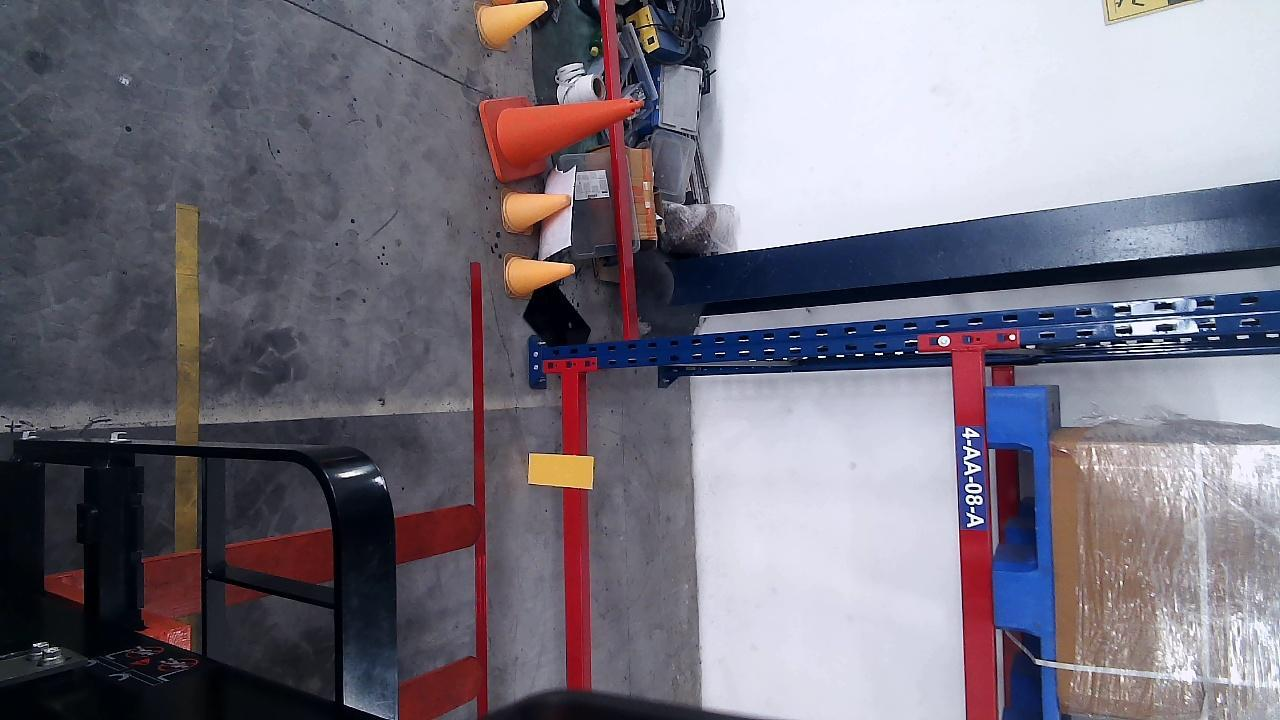h_rack: (952, 349, 1001, 718), (557, 372, 590, 688)
orange_strip: (524, 451, 597, 488)
red_line: (470, 260, 488, 715)
small_pallet: (987, 391, 1056, 717)
yellow_line: (174, 206, 200, 552)
